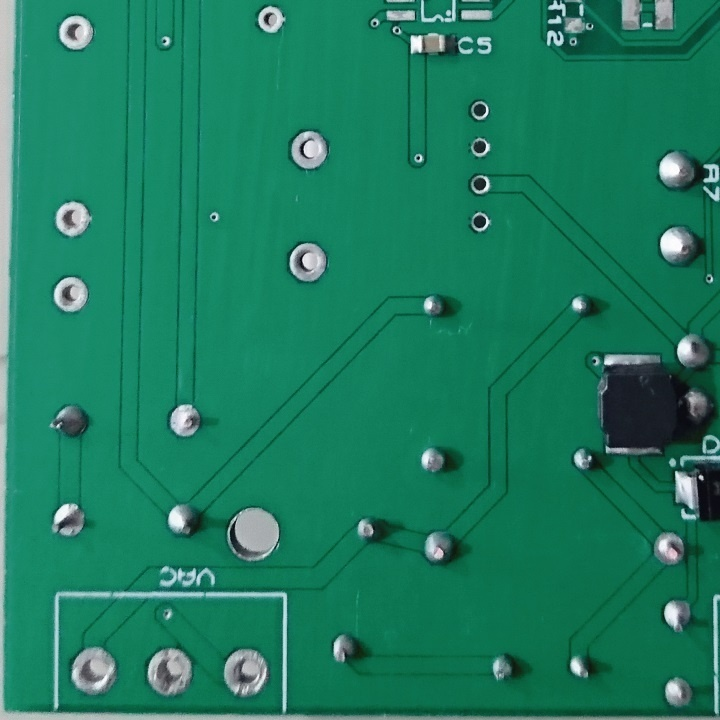F: (66, 643, 121, 697), (143, 645, 196, 700), (219, 643, 270, 700), (282, 127, 332, 175), (284, 240, 332, 284), (52, 198, 95, 240), (51, 274, 93, 317), (56, 12, 96, 56), (164, 400, 209, 439), (47, 502, 88, 541), (651, 529, 687, 571), (661, 673, 696, 713), (254, 2, 289, 40), (661, 598, 694, 635), (467, 209, 496, 238), (465, 98, 496, 125), (466, 172, 494, 198), (467, 136, 493, 158)
